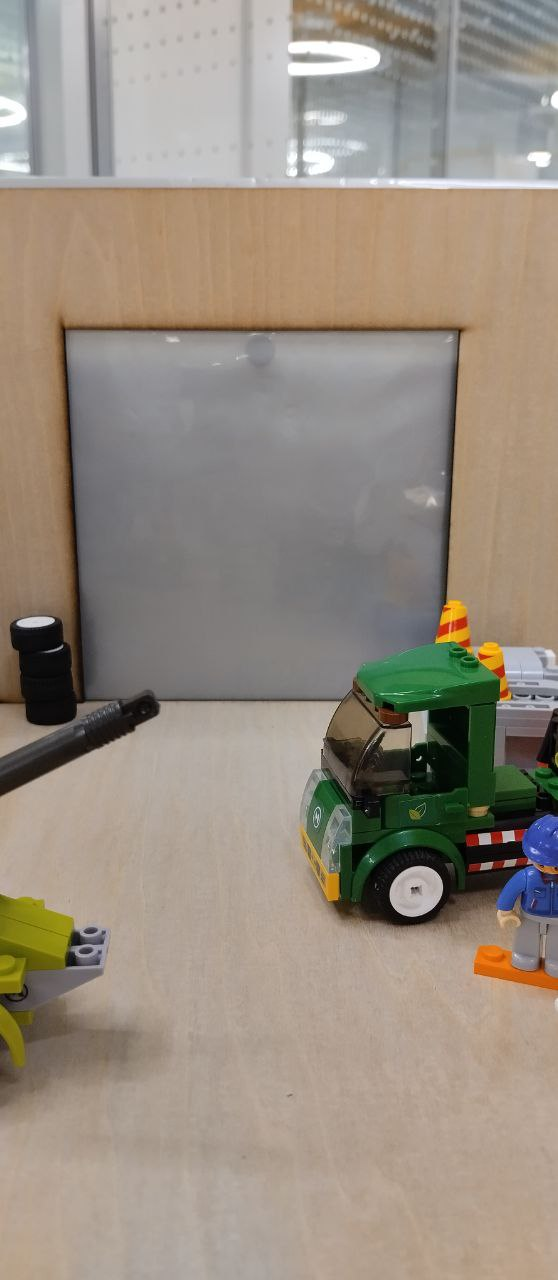Cone: (435, 598, 472, 674), (470, 638, 511, 704)
Truck: (295, 640, 558, 925)
